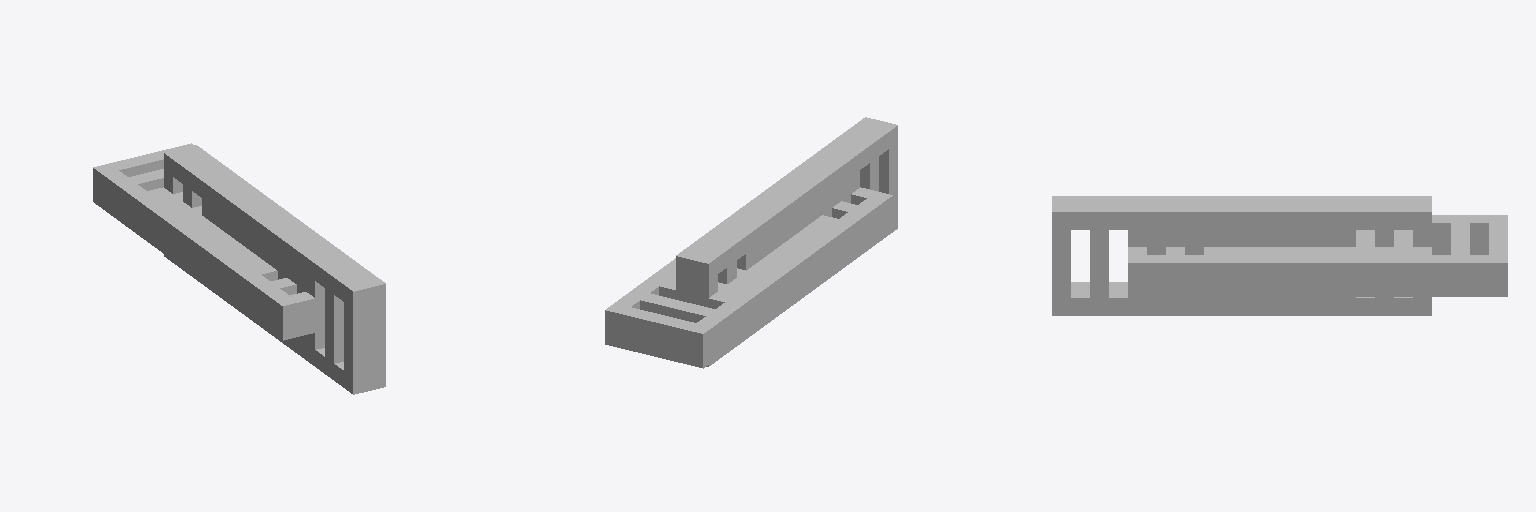
Rendered from gear3d_chain.obj.
The picture shows the model from 3 angles: view 1: azimuth 30°, elevation 25°; view 2: azimuth 150°, elevation 25°; view 3: azimuth 270°, elevation 25°; orthographic projection.
Visible parts, largest first — view 1: Chain_Cylinder.003; view 2: Chain_Cylinder.003; view 3: Chain_Cylinder.003.
Part boxes in pixels (bbox=[...]): Chain_Cylinder.003: bbox=[93, 143, 385, 394]; Chain_Cylinder.003: bbox=[605, 117, 897, 368]; Chain_Cylinder.003: bbox=[1052, 196, 1507, 315].
Bounding box in the file's own units: 0.375 × 0.375 × 1.5.